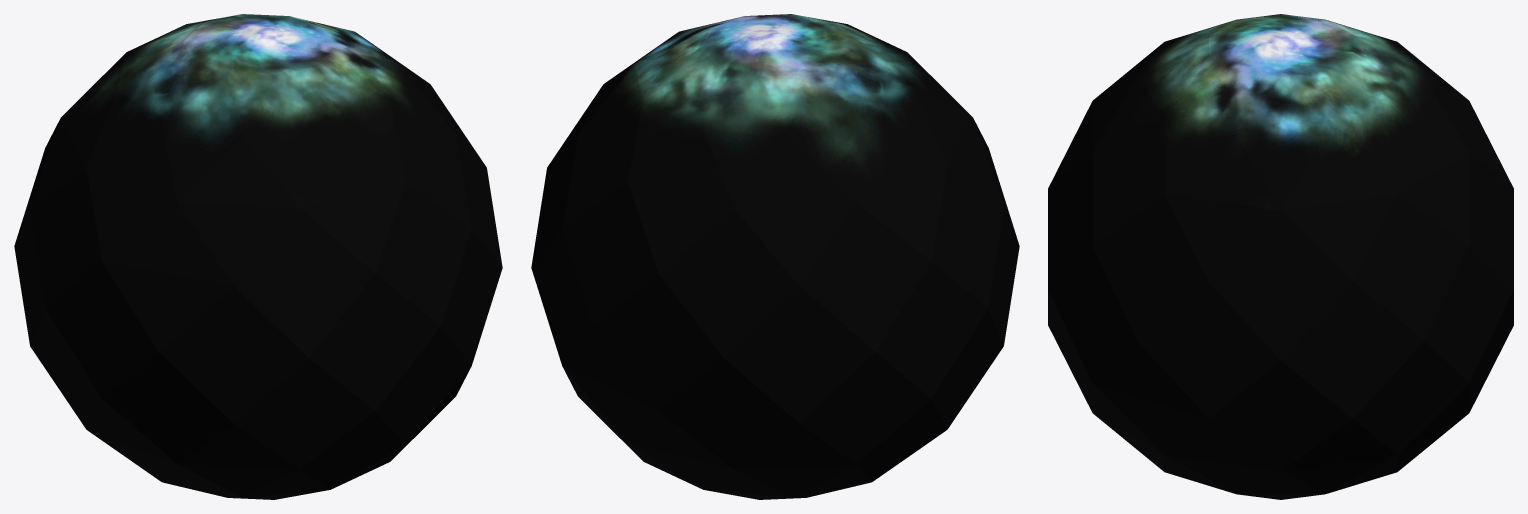
Rendered from CmnVR7.dae.
3 renders of one model, left to right at view 1: azimuth 30°, elevation 25°; view 2: azimuth 150°, elevation 25°; view 3: azimuth 270°, elevation 25°, orthographic.
Visible parts, largest first — view 1: mesh_Cmn_VR7.001; view 2: mesh_Cmn_VR7.001; view 3: mesh_Cmn_VR7.001.
Boxes of the visible parts, x1=… form: mesh_Cmn_VR7.001: x1=14, y1=14, x2=502, y2=499; mesh_Cmn_VR7.001: x1=531, y1=14, x2=1019, y2=499; mesh_Cmn_VR7.001: x1=1048, y1=14, x2=1513, y2=499.
Size of the model in its own units: 64000 by 60868 by 64000.
Materials: 2 (2 with a texture image).
